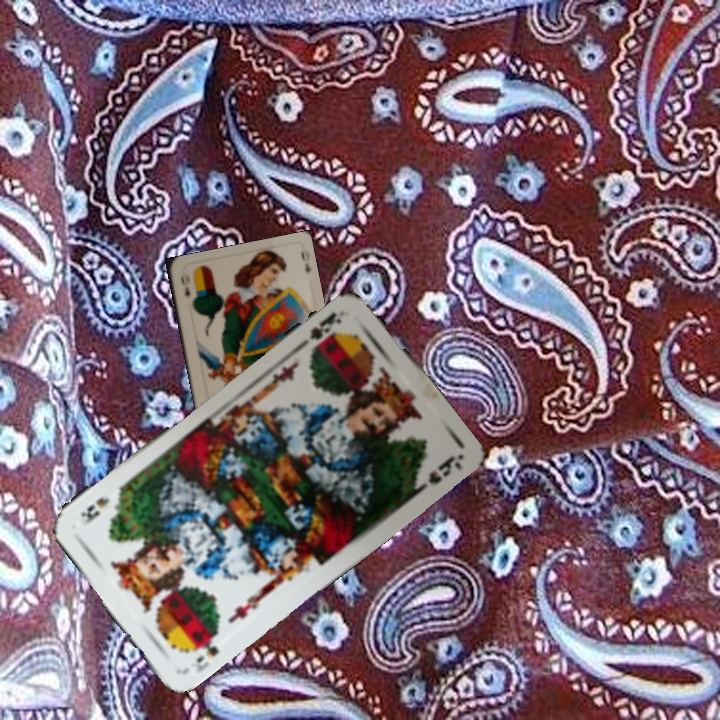EO: (176, 269, 193, 302)
SK: (305, 308, 344, 354), (182, 627, 221, 673)
